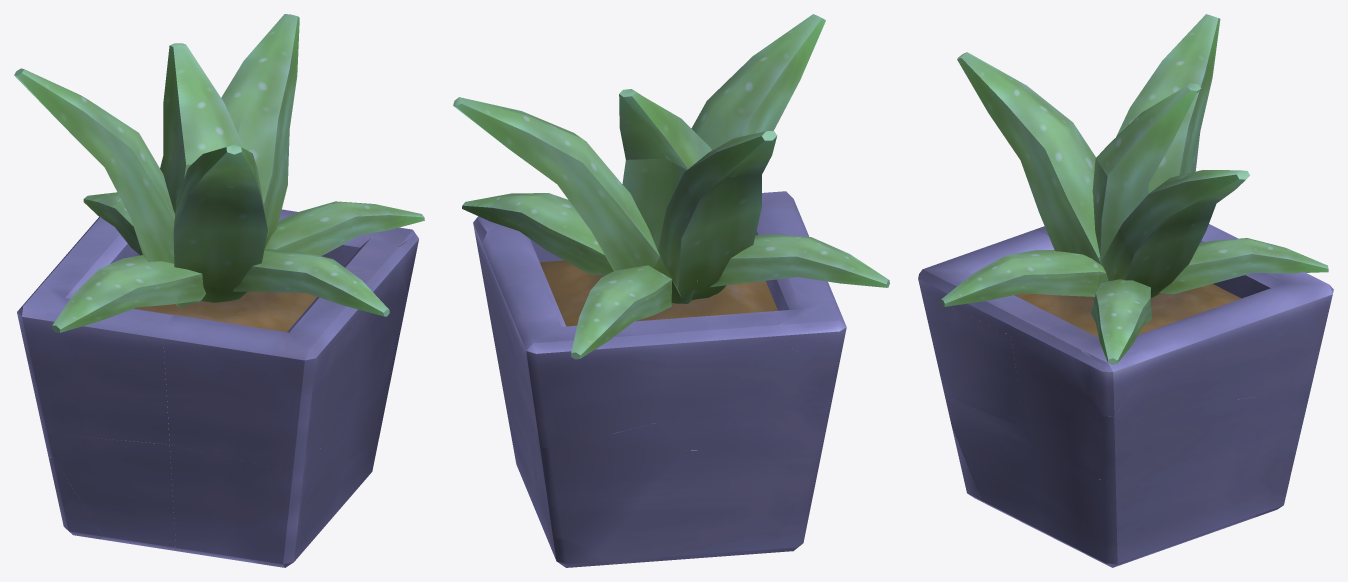
File: Small_Plant_2.fbx
The picture shows the model from 3 angles, left to right: view 1: azimuth 30°, elevation 25°; view 2: azimuth 150°, elevation 25°; view 3: azimuth 270°, elevation 25°; orthographic projection. The views are drawn at different scales.
Visible parts, largest first — view 1: Small Plant_2.013, Small Plant_2.009, Small Plant_2.002, Small Plant3_2.003, Small Plant_2.011, Small Plant3_2.002, Small Plant3_2.004, Small Plant_2.010, Small Plant3_2.005, Small Plant3_2.007, Small Plant3_2.001, Small Plant3_2.006 (+12 smaller); view 2: Small Plant_2.009, Small Plant_2.006, Small Plant_2.017, Small Plant_2.011, Small Plant3_2.002, Small Plant3_2.004, Small Plant3_2.005, Small Plant3_2.003, Small Plant3_2.006, Small Plant3_2.007, Small Plant3_2.008, Small Plant_2.018 (+10 smaller); view 3: Small Plant_2.003, Small Plant_2.020, Small Plant3_2.003, Small Plant_2.006, Small Plant3_2.004, Small Plant_2.017, Small Plant_2.013, Small Plant3_2.005, Small Plant_2.002, Small Plant_2.001, Small Plant3_2.002, Small Plant3_2.001 (+8 smaller).
Part boxes in pixels (box(x1,y1,x2,y2)): Small Plant_2.013: box(164, 311, 365, 471); Small Plant_2.009: box(28, 240, 173, 444); Small Plant_2.002: box(169, 409, 353, 563); Small Plant3_2.003: box(173, 144, 267, 302); Small Plant_2.011: box(42, 430, 178, 551); Small Plant3_2.002: box(14, 68, 199, 307); Small Plant3_2.004: box(221, 14, 299, 248); Small Plant_2.010: box(161, 297, 364, 373); Small Plant3_2.005: box(160, 43, 244, 213); Small Plant3_2.007: box(52, 255, 205, 332); Small Plant3_2.001: box(233, 248, 389, 316); Small Plant3_2.006: box(265, 201, 424, 255); Small Plant_2.009: box(655, 277, 837, 450); Small Plant_2.006: box(502, 285, 672, 449); Small Plant_2.017: box(517, 383, 686, 553); Small Plant_2.011: box(680, 446, 822, 559); Small Plant3_2.002: box(658, 131, 777, 300); Small Plant3_2.004: box(453, 97, 659, 270); Small Plant3_2.005: box(619, 89, 711, 303); Small Plant3_2.003: box(691, 14, 825, 150); Small Plant3_2.006: box(462, 193, 613, 275); Small Plant3_2.007: box(709, 234, 889, 287); Small Plant3_2.008: box(570, 265, 671, 359); Small Plant_2.018: box(519, 417, 683, 565); Small Plant_2.003: box(1011, 336, 1236, 481); Small Plant_2.020: box(1036, 448, 1196, 567); Small Plant3_2.003: box(957, 52, 1100, 263); Small Plant_2.006: box(1215, 272, 1333, 399); Small Plant3_2.004: box(1102, 170, 1250, 298); Small Plant_2.017: box(1197, 390, 1310, 505); Small Plant_2.013: box(921, 293, 1023, 427); Small Plant3_2.005: box(1092, 83, 1201, 266); Small Plant_2.002: box(945, 396, 1046, 534); Small Plant_2.001: box(1010, 308, 1234, 372); Small Plant3_2.002: box(1116, 14, 1220, 193); Small Plant3_2.001: box(940, 250, 1108, 306).
Size of the model in its own units: 1.89 by 1.95 by 2.1.
